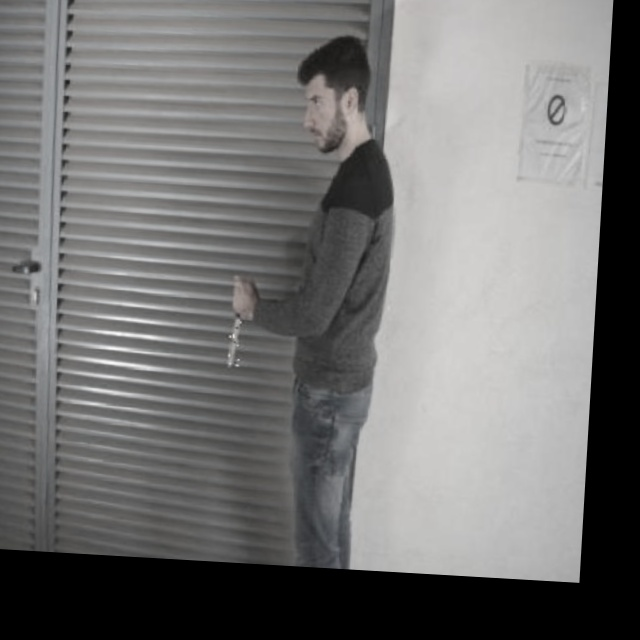Sharp-Object: (228, 315, 242, 368)
